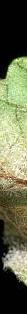Tomato leaf late blight: (0, 55, 27, 314)
